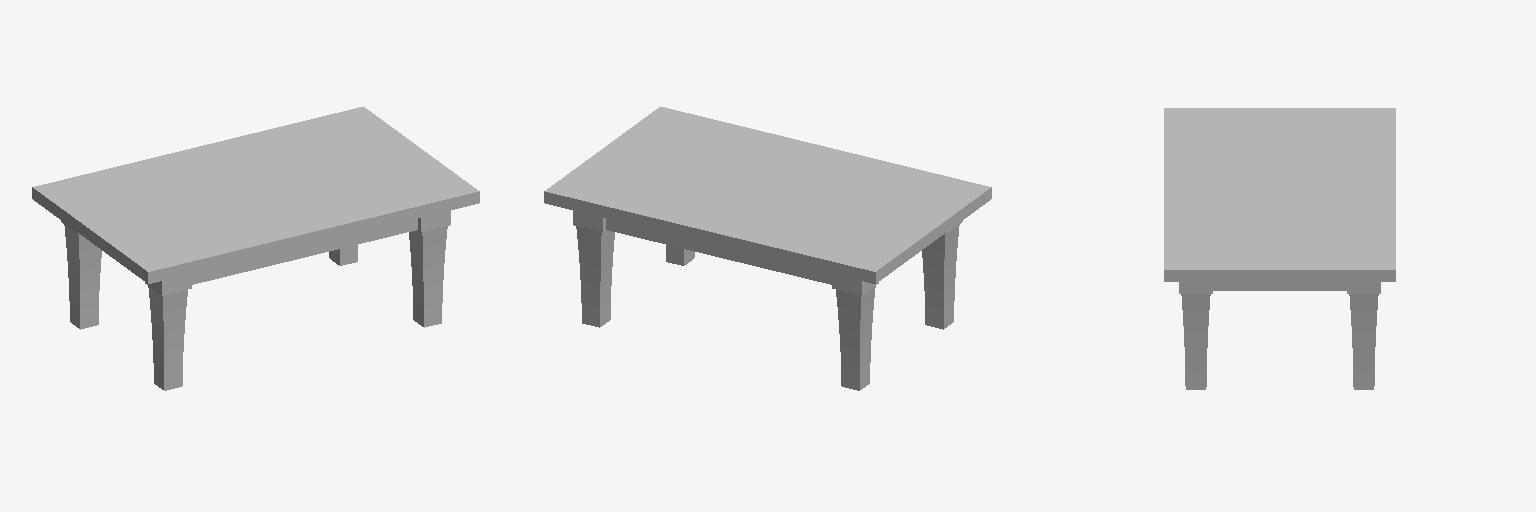
File: table.obj
The picture shows the model from 3 angles: view 1: azimuth 30°, elevation 25°; view 2: azimuth 150°, elevation 25°; view 3: azimuth 270°, elevation 25°; orthographic projection.
Visible parts, largest first — view 1: table_Cube.001; view 2: table_Cube.001; view 3: table_Cube.001.
Part boxes in pixels (left/top/right/bottom): table_Cube.001: left=32, top=106, right=479, bottom=390; table_Cube.001: left=544, top=106, right=991, bottom=390; table_Cube.001: left=1164, top=108, right=1395, bottom=389.
Size of the model in its own units: 12.9 by 4.96 by 7.83.